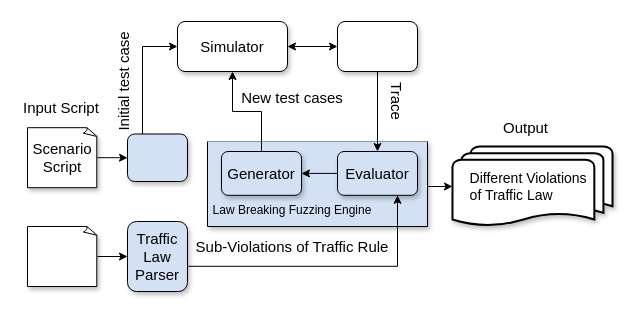
This 636x316 diagram has some shape labels left out. The centre of each missing label's shape, as x and y in pixels:
ADS: the point at 378,47
DSL Parser: the point at 158,158
Traffic laws: the point at 63,258
